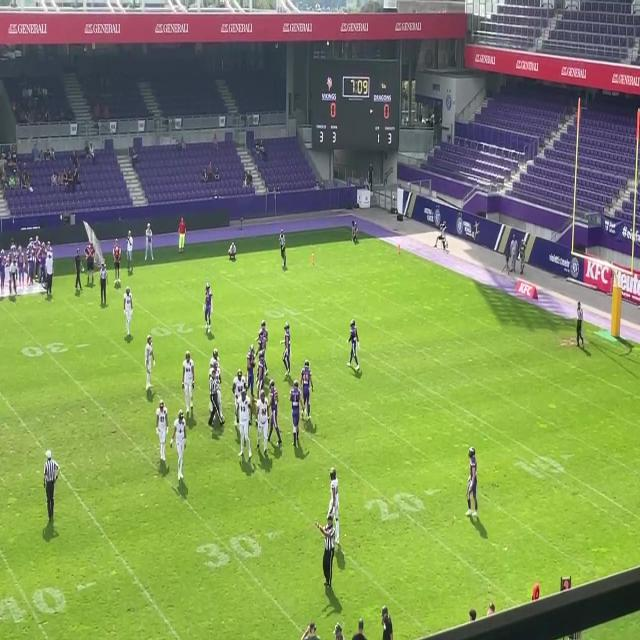1: (510, 457, 555, 484)
2: (363, 496, 403, 524)
3: (195, 537, 230, 576)
4: (0, 589, 30, 631)
american-football-players: (236, 391, 256, 461), (170, 410, 188, 484), (327, 467, 341, 546), (267, 382, 283, 449), (300, 358, 316, 422), (256, 389, 270, 458), (155, 400, 170, 464), (181, 352, 196, 414), (466, 446, 478, 520), (347, 318, 362, 375), (290, 378, 302, 448), (210, 359, 224, 419), (202, 282, 215, 337), (282, 320, 294, 379), (122, 285, 134, 337), (144, 336, 155, 389), (256, 350, 270, 390), (232, 367, 248, 399), (247, 347, 256, 393), (258, 320, 268, 360), (207, 348, 220, 368)
